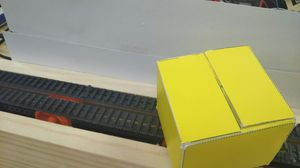box4: (154, 45, 297, 168)
